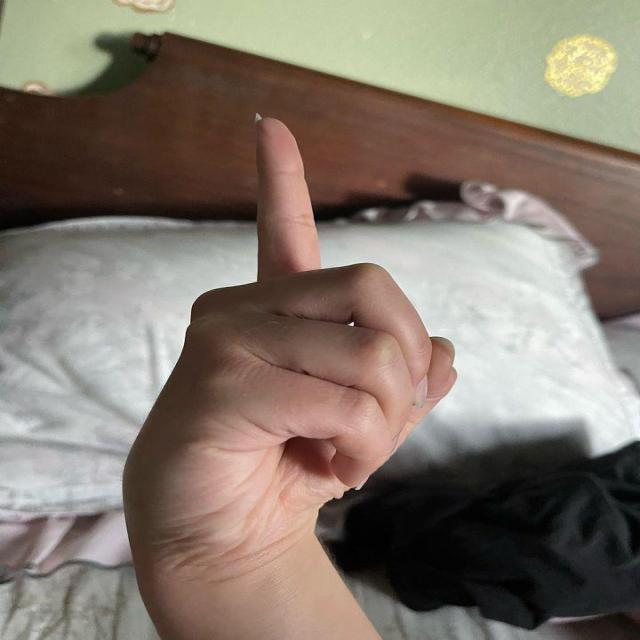D: (120, 107, 464, 563)
